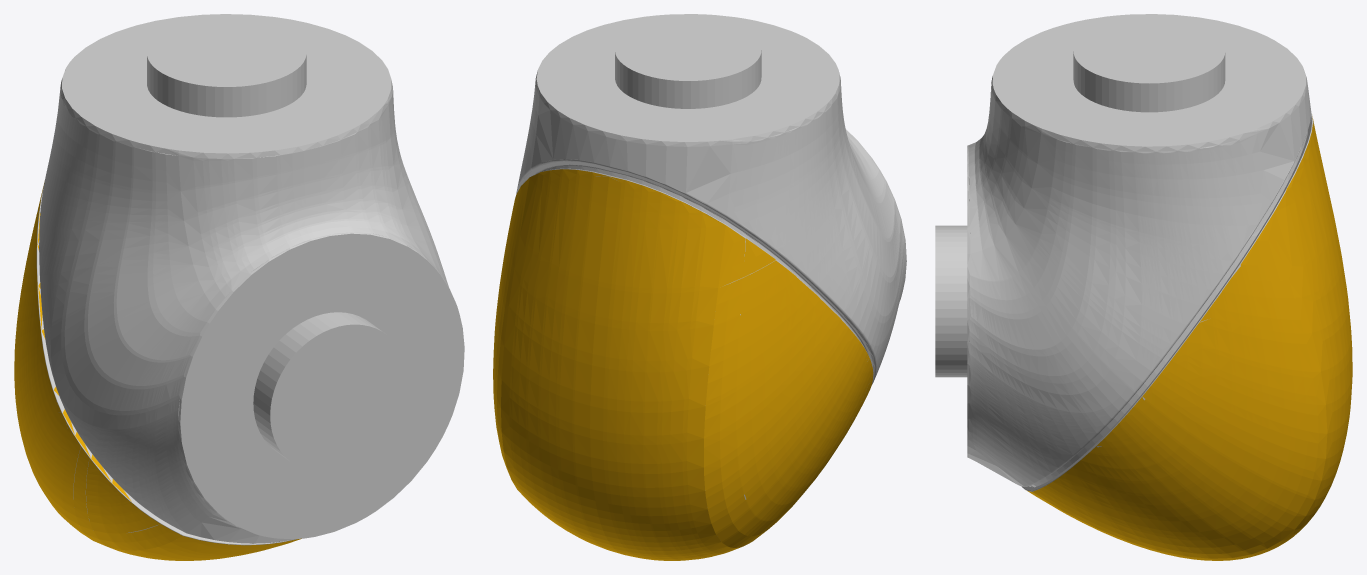
3 renders of one model, left to right at view 1: azimuth 30°, elevation 25°; view 2: azimuth 150°, elevation 25°; view 3: azimuth 270°, elevation 25°, orthographic. The views are drawn at different scales.
Parts seen in each view (by area): view 1: node0_001; view 2: node0_001; view 3: node0_001.
Part boxes in pixels (bbox=[...]): node0_001: bbox=[14, 14, 464, 560]; node0_001: bbox=[493, 14, 906, 560]; node0_001: bbox=[935, 14, 1352, 560].
Bounding box in the file's own units: 0.1323 × 0.1374 × 0.1774.
